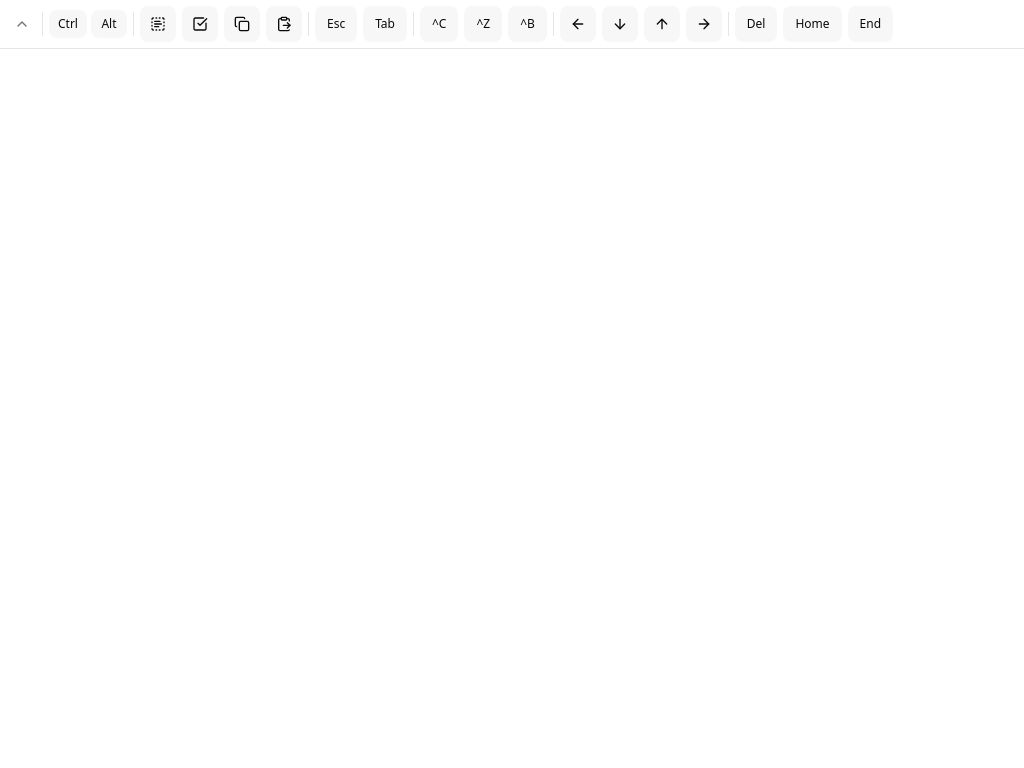
Scenario: MobileTerminalShortcuts › Rendering › should render in collapsed state when collapsed
// Click collapse button
Click the button titled "Hide shortcuts" at {"x": 22, "y": 24}, box top-left (8, 10), bottom-right (36, 38)
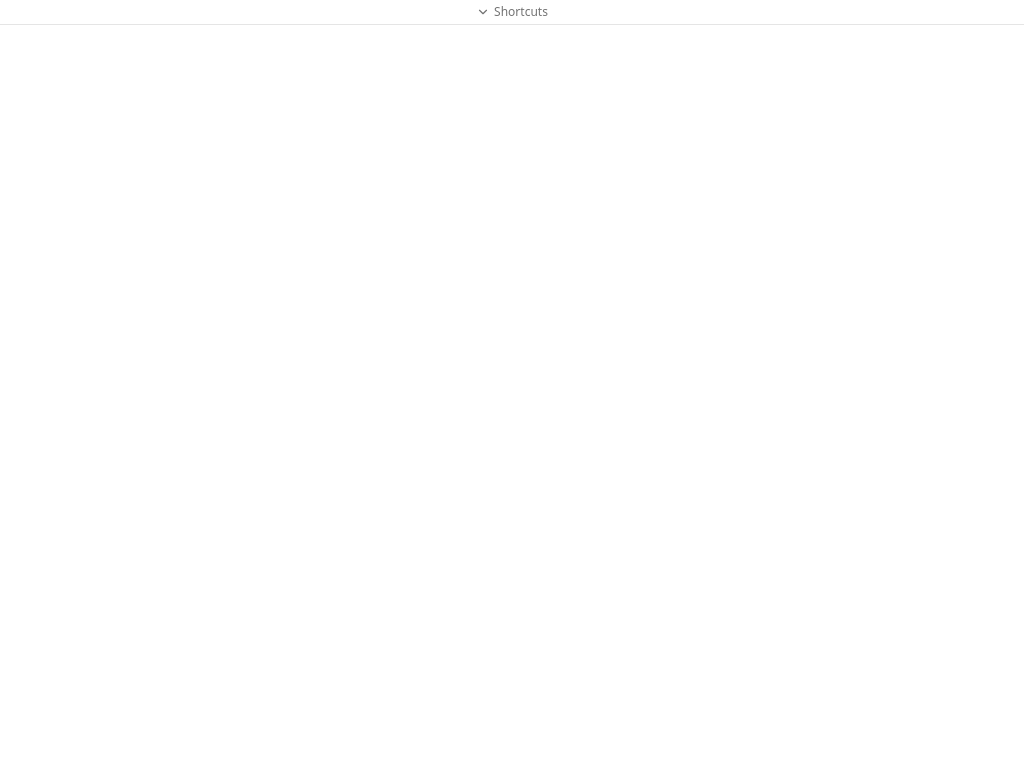
Expected: the text "Shortcuts" is shown, top-left (494, 4), bottom-right (548, 20)
Expected: the button titled "Show shortcuts" is shown, top-left (460, 0), bottom-right (564, 24)
Expected: the button "Esc" is gone
